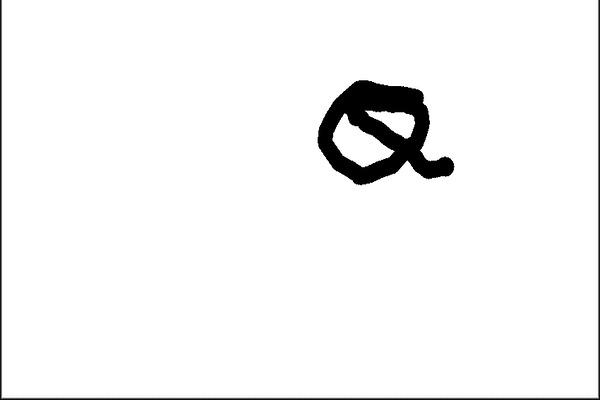Q: (304, 68, 458, 193)
